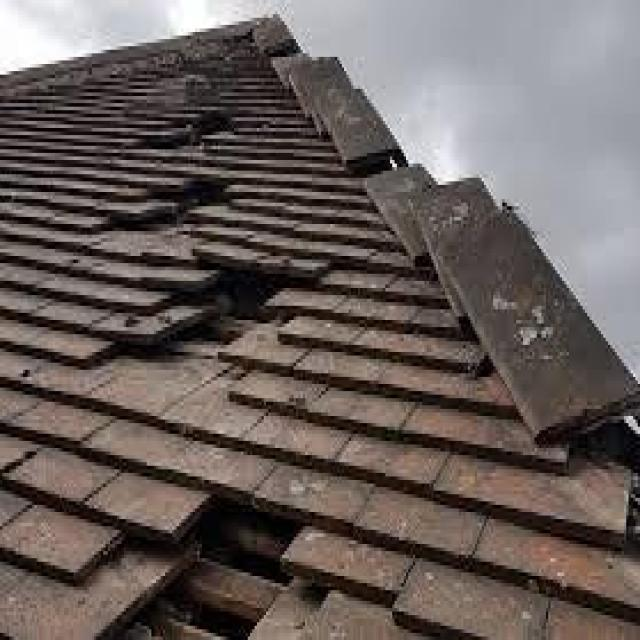trou: (83, 485, 317, 638), (64, 253, 313, 384), (81, 174, 239, 236), (120, 107, 241, 150)
